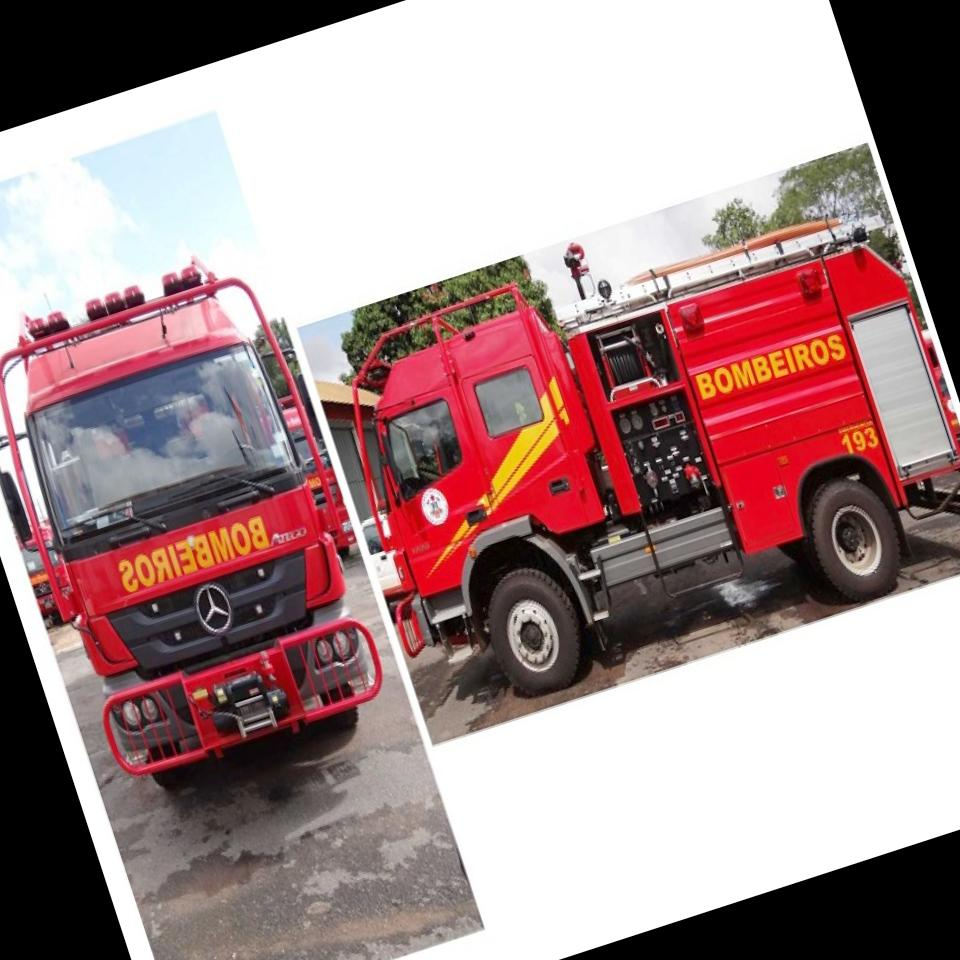viatura: (302, 146, 960, 739), (0, 232, 411, 808)
